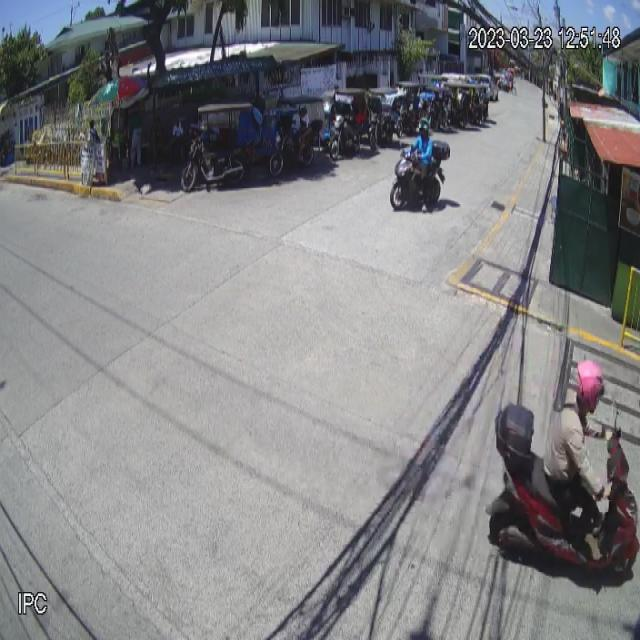Motorcycle: (485, 401, 640, 580), (390, 139, 450, 211)
